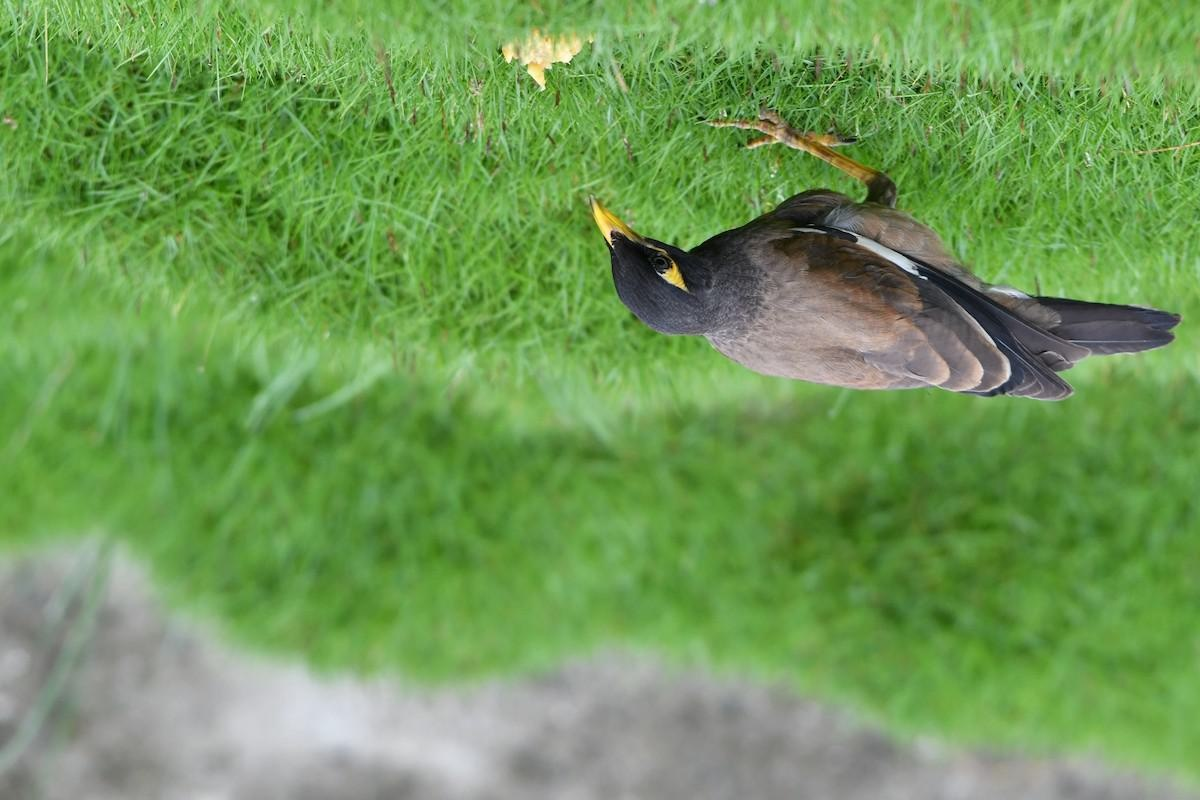myna: (588, 146, 1125, 404)
